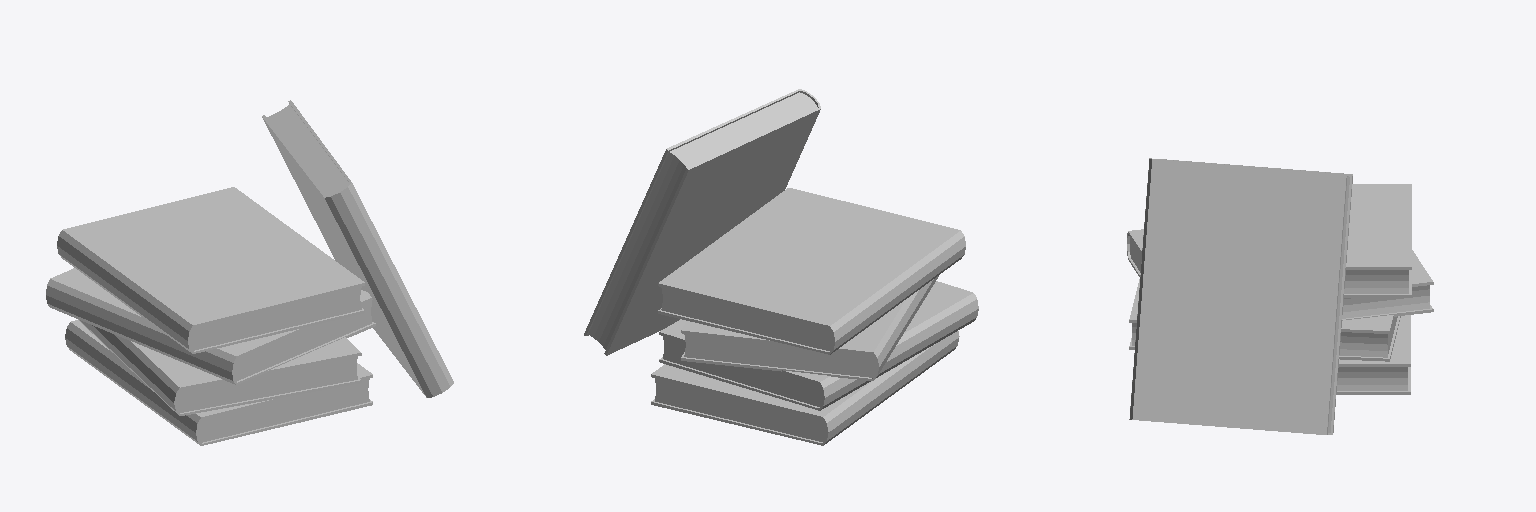
File: book_tri.obj
The picture shows the model from 3 angles: view 1: azimuth 30°, elevation 25°; view 2: azimuth 150°, elevation 25°; view 3: azimuth 270°, elevation 25°; orthographic projection.
Parts seen in each view (by area): view 1: Book_s_Cube; view 2: Book_s_Cube; view 3: Book_s_Cube.
Boxes of the visible parts, x1,y1,x2,y2 form: Book_s_Cube: [46, 100, 453, 445]; Book_s_Cube: [584, 89, 978, 445]; Book_s_Cube: [1127, 158, 1433, 434].
Size of the model in its own units: 1.08 by 0.7378 by 0.8918.